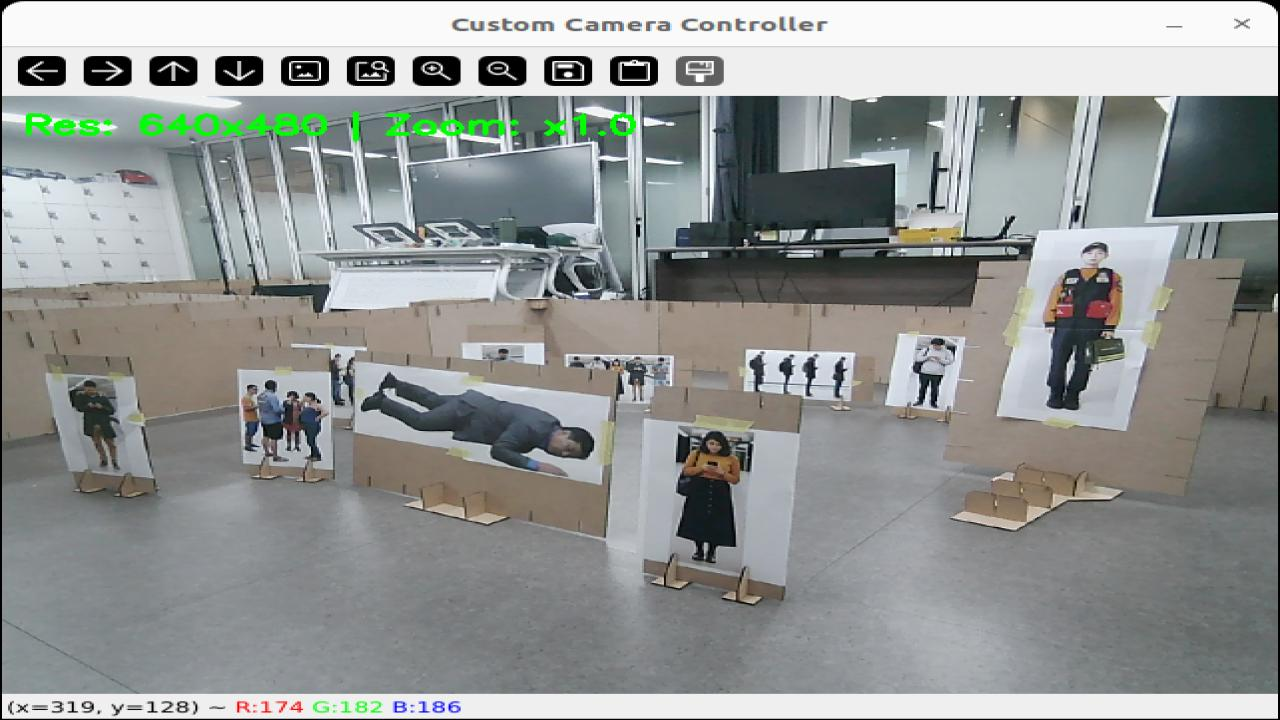Crowd: (676, 431, 740, 563), (74, 381, 118, 468), (913, 338, 953, 407), (259, 380, 281, 460), (301, 392, 325, 460), (285, 391, 301, 450), (243, 385, 257, 451), (626, 356, 646, 400), (750, 353, 764, 391), (331, 355, 341, 404), (782, 355, 794, 392), (610, 360, 622, 397), (343, 358, 353, 400), (835, 356, 845, 397), (805, 354, 815, 395), (656, 357, 667, 386), (496, 349, 506, 359)
Patient: (361, 374, 592, 475)
Responder: (1045, 244, 1120, 409)
